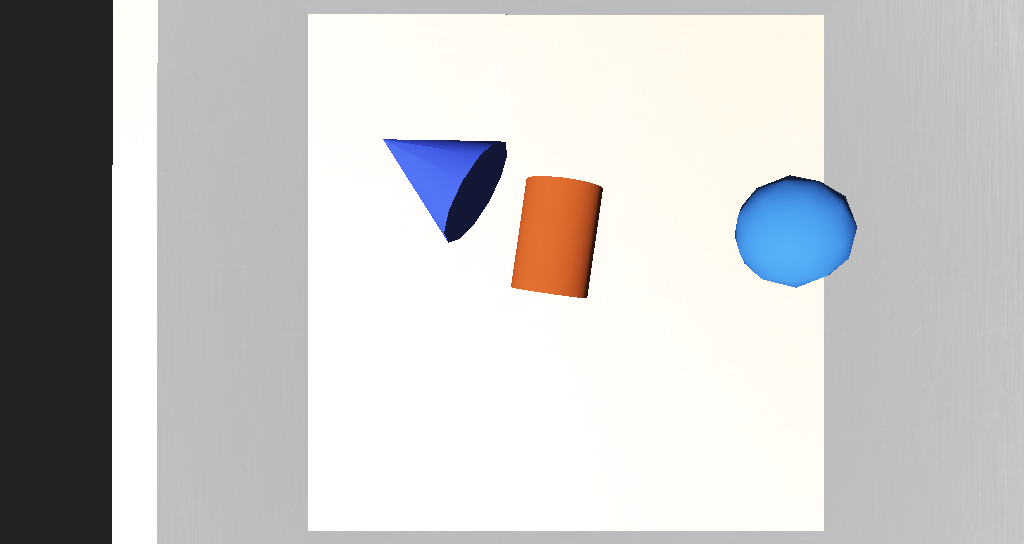cone: (472, 229, 525, 277)
cylinder: (374, 191, 475, 258)
sphere: (603, 231, 664, 274)
